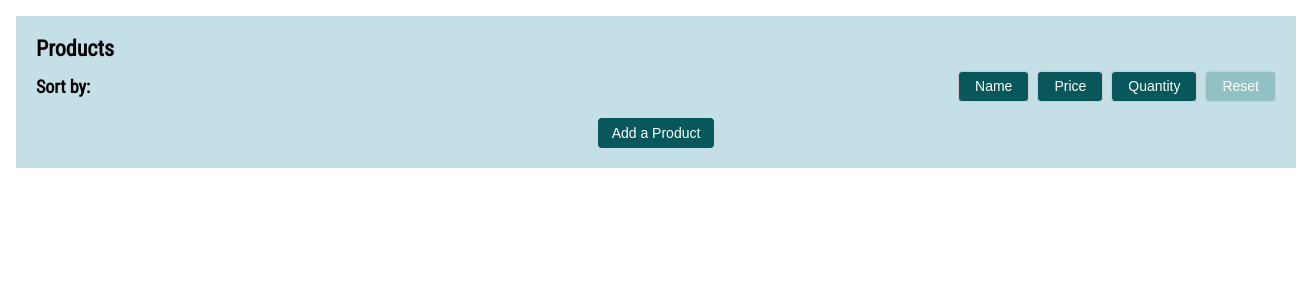
it: Display form when click 'Add a product' button
Click the button "Add a Product" at point(656, 133), box [598,118,714,148]
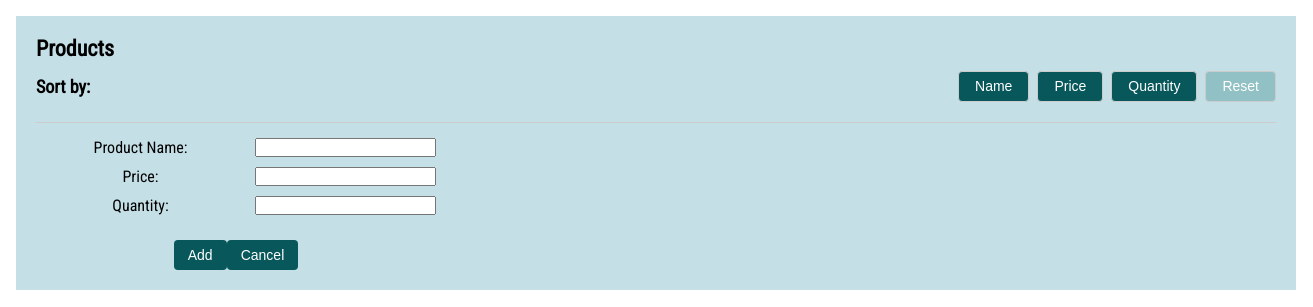
Now the field labelled "Product Name:" is shown, box [255,138,436,157]
Now the number field labelled "Price:" is shown, box [255,167,436,186]
Now the number field labelled "Quantity:" is shown, box [255,196,436,215]
